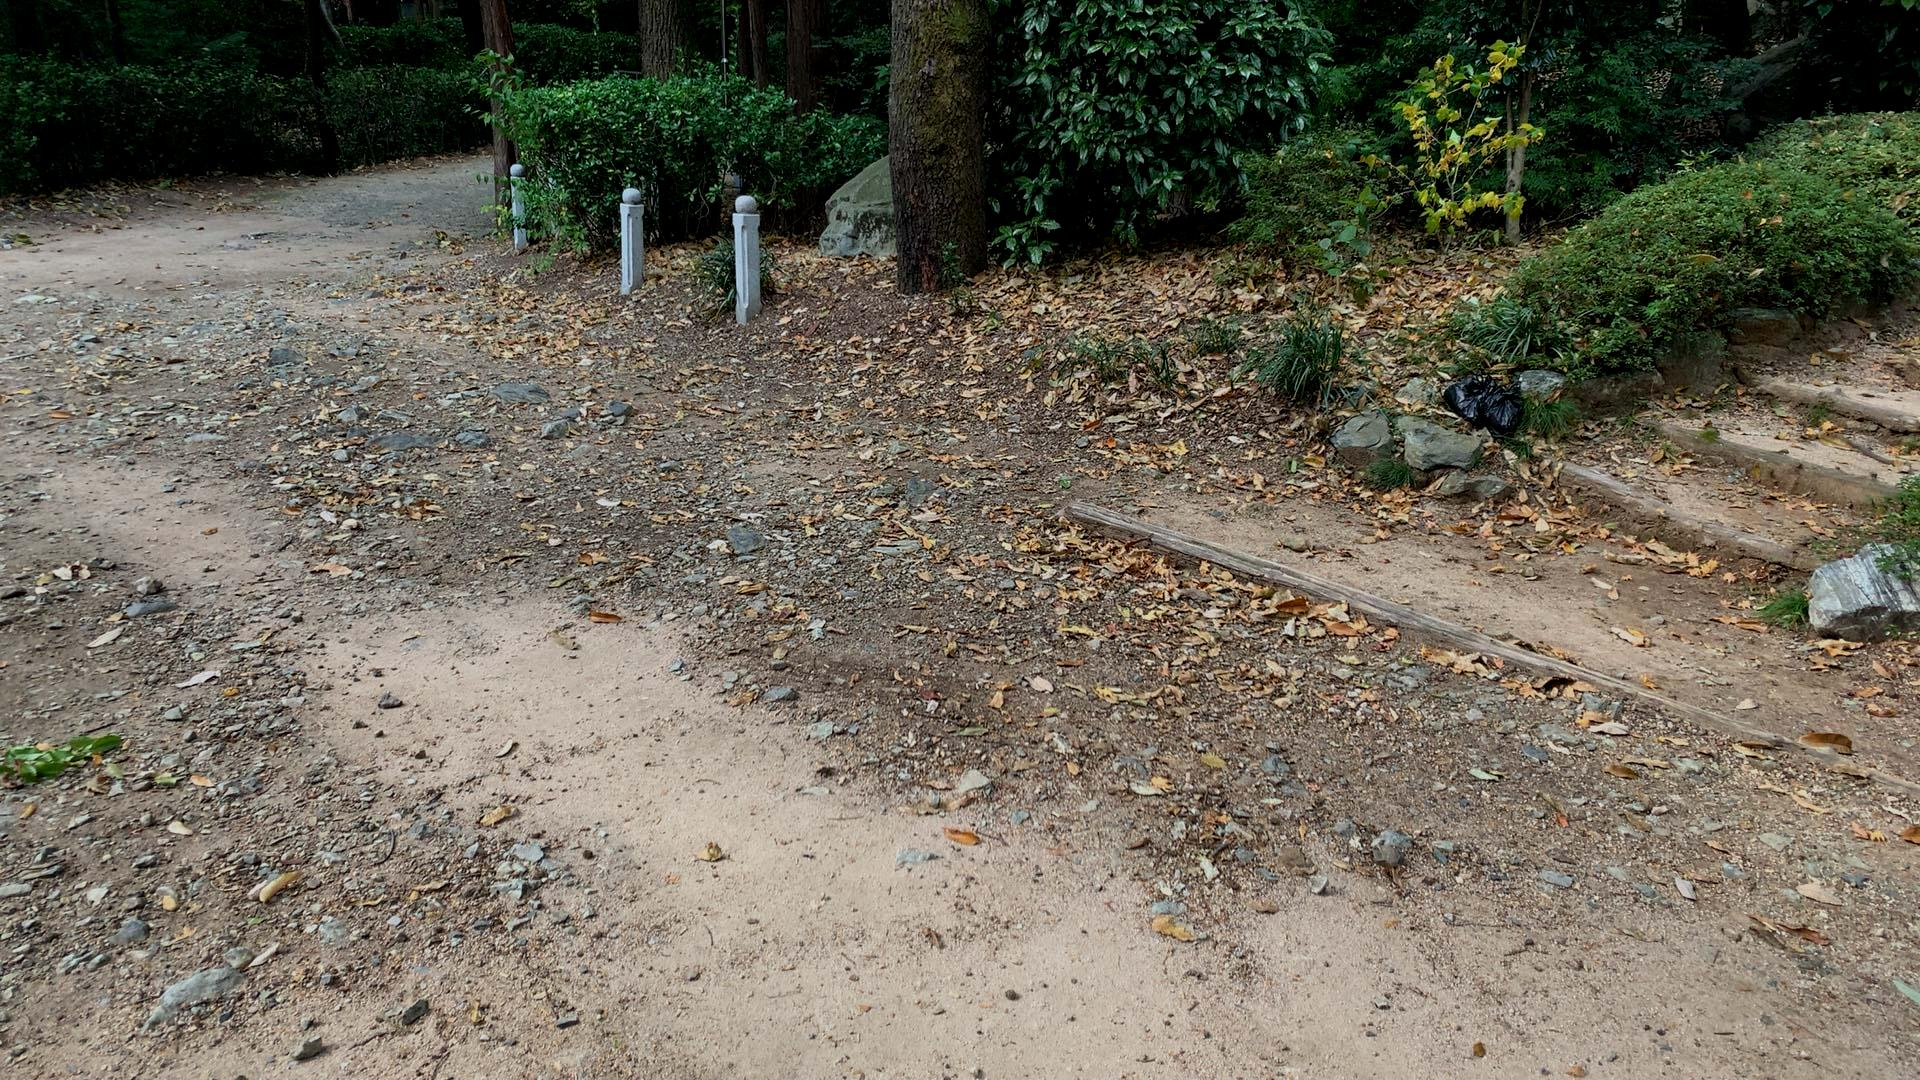black_bag: (1441, 368, 1491, 426), (1480, 377, 1524, 436)
